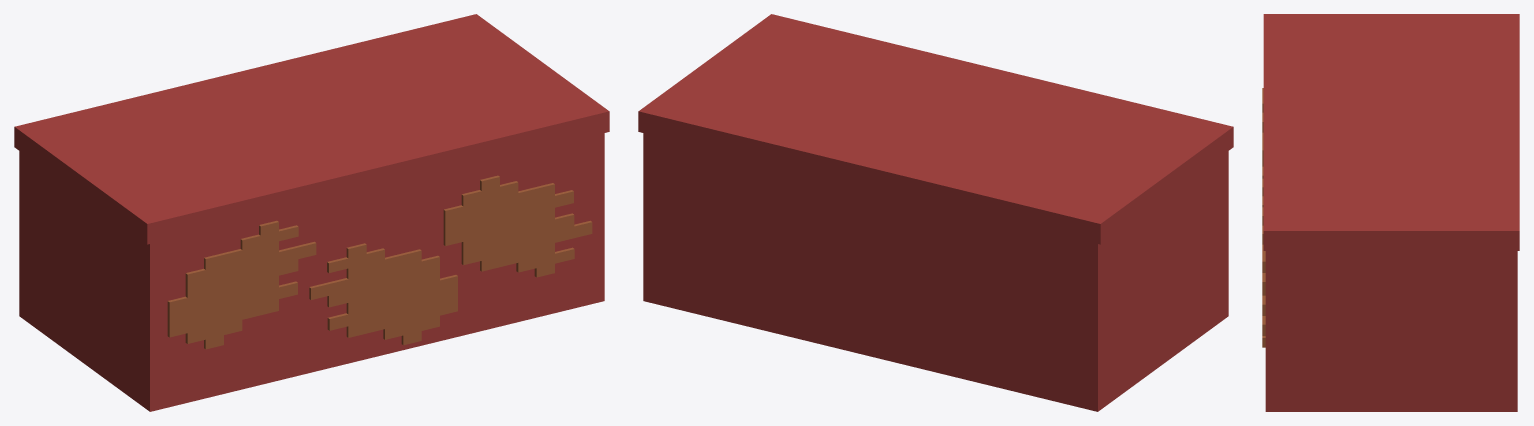
The model's file is HouseBlock4.fbx.
The picture shows the model from 3 angles, left to right: view 1: azimuth 30°, elevation 25°; view 2: azimuth 150°, elevation 25°; view 3: azimuth 270°, elevation 25°; orthographic projection. The views are drawn at different scales.
Parts seen in each view (by area): view 1: Cube.005; view 2: Cube.005; view 3: Cube.005.
Part boxes in pixels (x1,y1,x2,y2): Cube.005: [14, 14, 609, 411]; Cube.005: [638, 14, 1233, 411]; Cube.005: [1262, 14, 1519, 411].
Bounding box in the file's own units: 4057 × 1591 × 2035.
